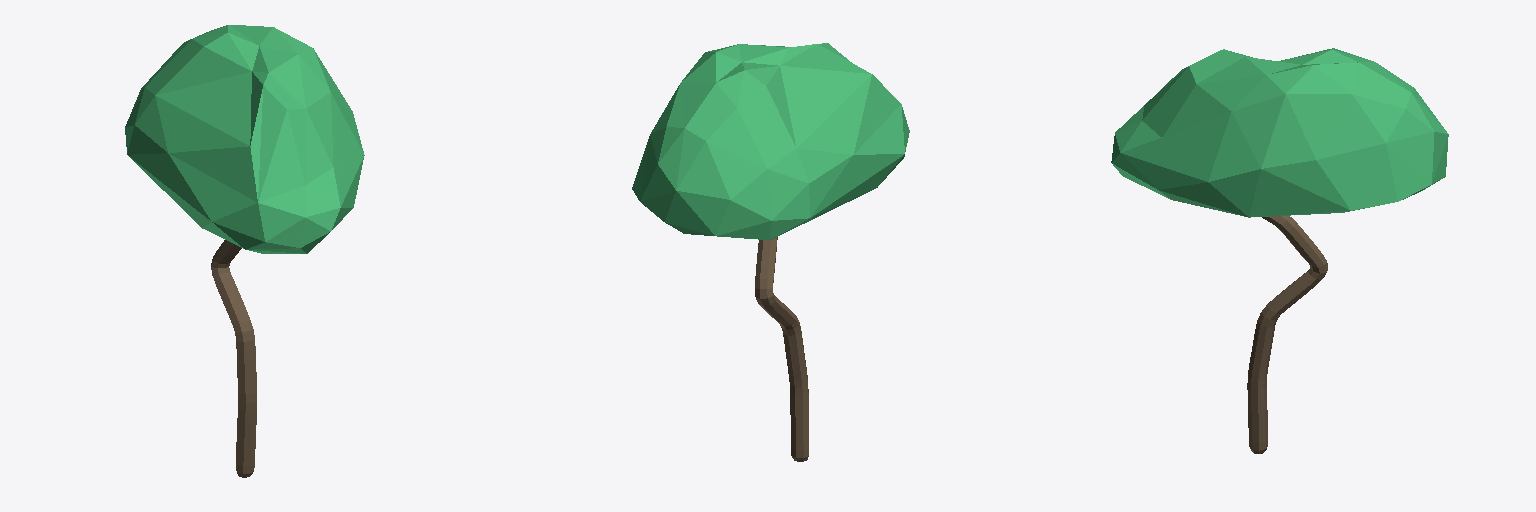
3 views of the same model, side by side, from view 1: azimuth 30°, elevation 25°; view 2: azimuth 150°, elevation 25°; view 3: azimuth 270°, elevation 25° (orthographic).
Visible parts, largest first — view 1: Tree_Sphere.010; view 2: Tree_Sphere.010; view 3: Tree_Sphere.010.
Boxes of the visible parts, box(x1,y1,x2,y2) form: Tree_Sphere.010: box(125, 25, 364, 477); Tree_Sphere.010: box(632, 43, 909, 461); Tree_Sphere.010: box(1111, 48, 1448, 453).
Size of the model in its own units: 6.53 by 14.32 by 10.52.
1 materials, 1 textured.